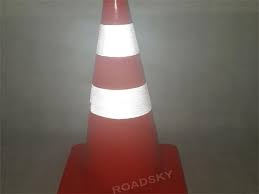cones: (55, 1, 185, 194)
